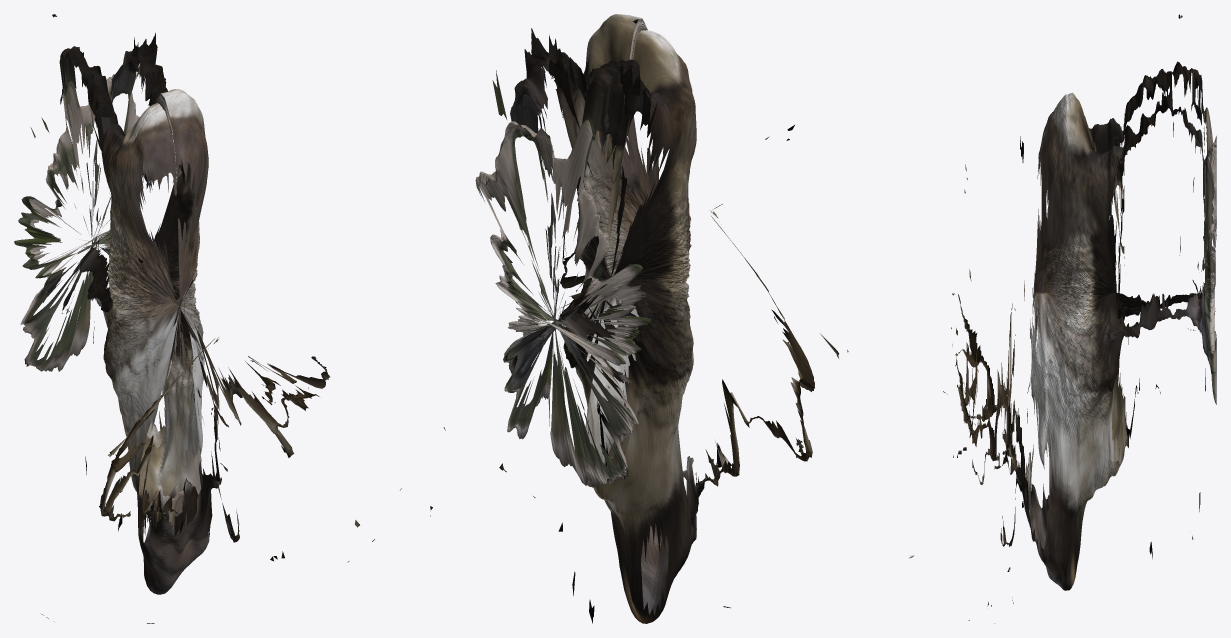
The picture shows the model from 3 angles, left to right: view 1: azimuth 30°, elevation 25°; view 2: azimuth 150°, elevation 25°; view 3: azimuth 270°, elevation 25°; orthographic projection. The views are drawn at different scales.
Parts seen in each view (by area): view 1: geometry_0; view 2: geometry_0; view 3: geometry_0.
Boxes of the visible parts, left/top/right/bottom form: geometry_0: left=14, top=14, right=401, bottom=623; geometry_0: left=430, top=14, right=913, bottom=623; geometry_0: left=943, top=14, right=1216, bottom=623.
Bounding box in the file's own units: 1.3 × 1.83 × 0.8249.
Materials: 1 (1 with a texture image).
